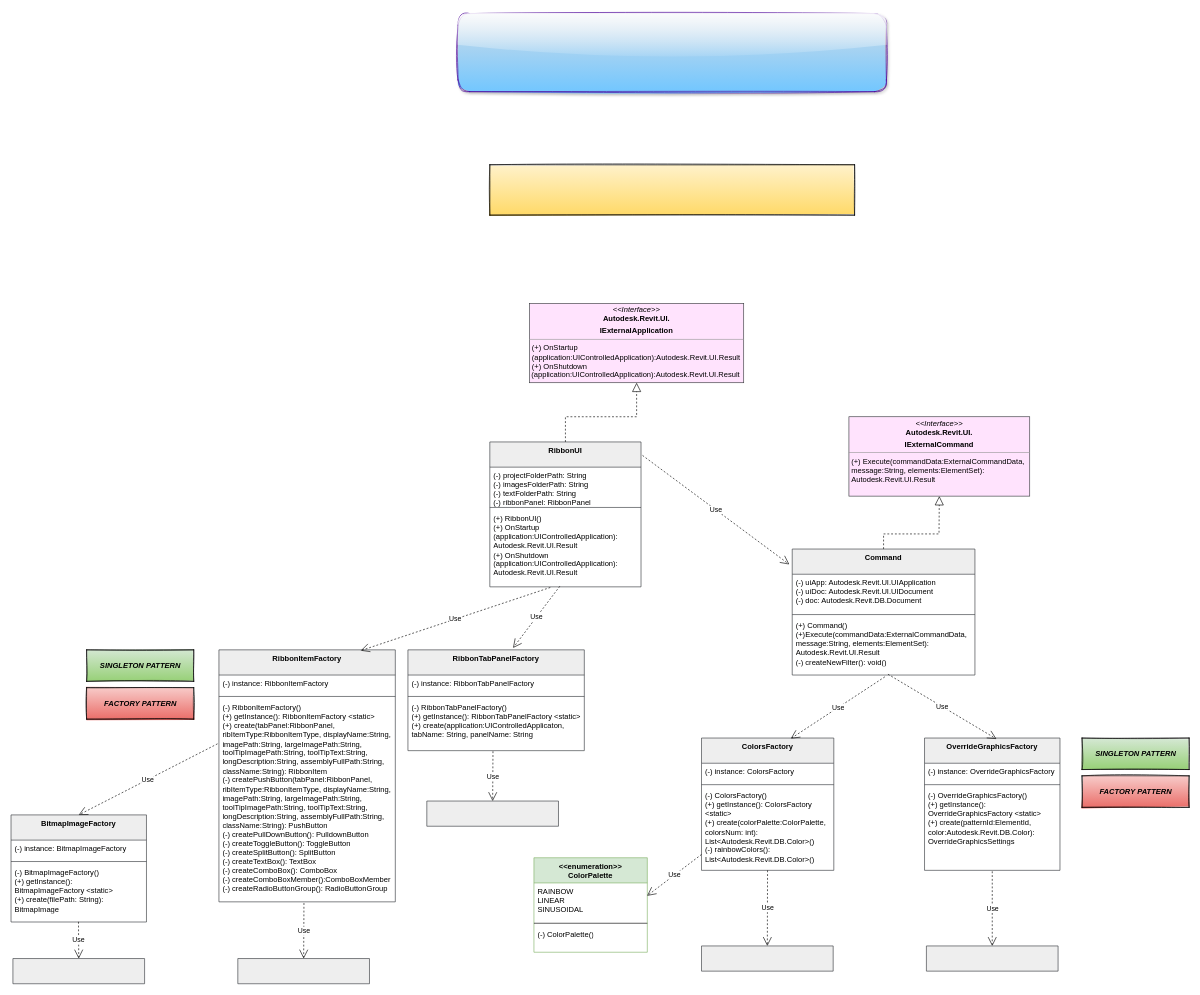
Image size: 1200x995. Some labels were removed from this diagram. The shapes that lost their labels are listed below. From the top down, each one's centre as x and y in pixels, then its label:
the point at 672,53: Revit API Plugin VIEWFILTERSFACTORY
the point at 672,189: UML CLASSES DIAGRAM
the point at 492,813: Autodesk.Revit.UI. RibbonPanel
the point at 78,971: System.Windows.Media. Imaging.BitmapImage
the point at 303,971: Autodesk.Revit.UI. RibbonItem
the point at 767,958: Autodesk.Revit.DB. Color
the point at 992,958: Autodesk.Revit.DB. OverrideGraphicSettings
